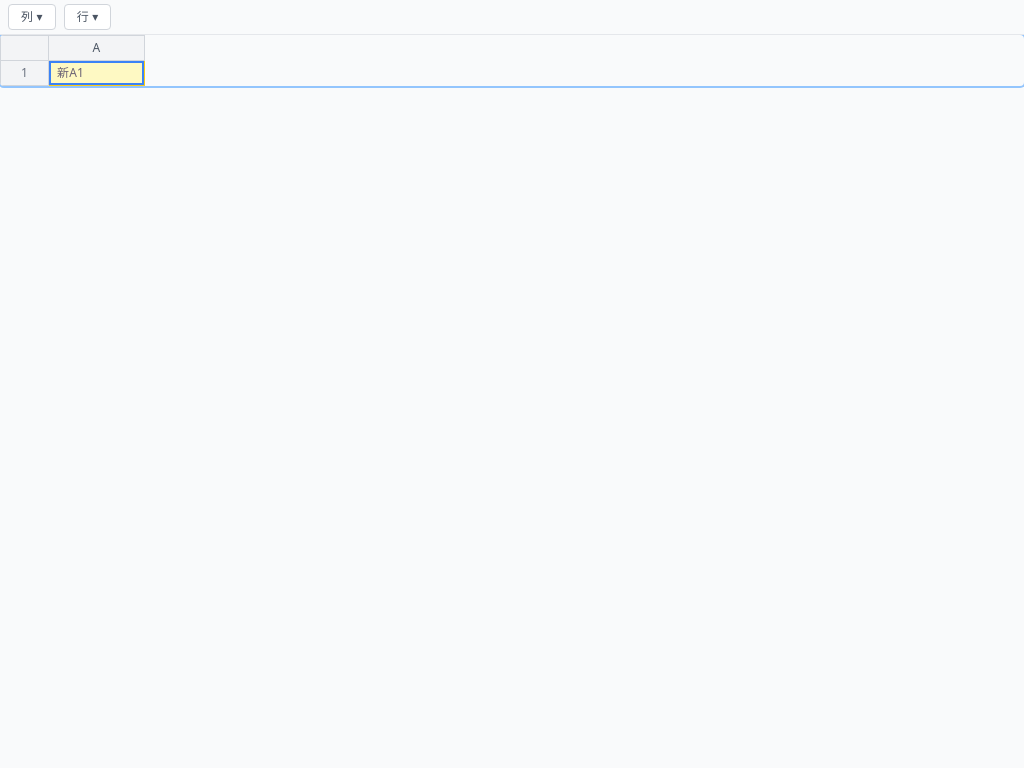
Scenario: B-028: キーボードナビゲーション › セルをクリックするとモーダルが開く
Click the cell "新A1" at (96, 73), box [48, 60, 144, 86]
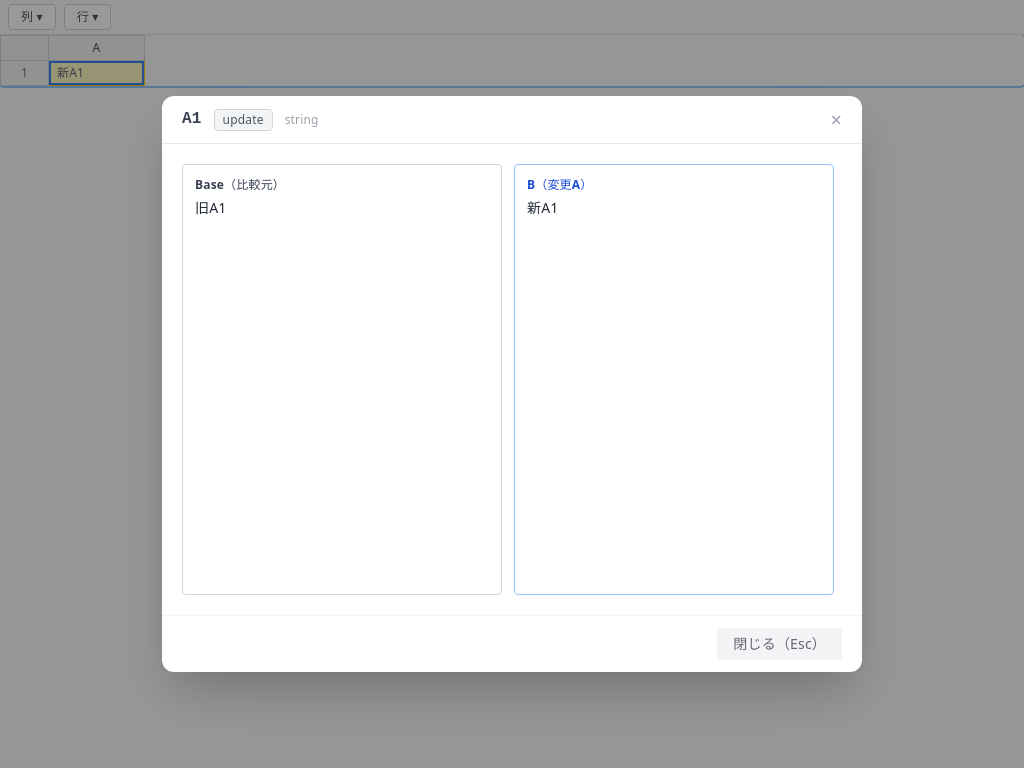
Expected: the text "A1" is shown, [182, 108, 202, 131]
